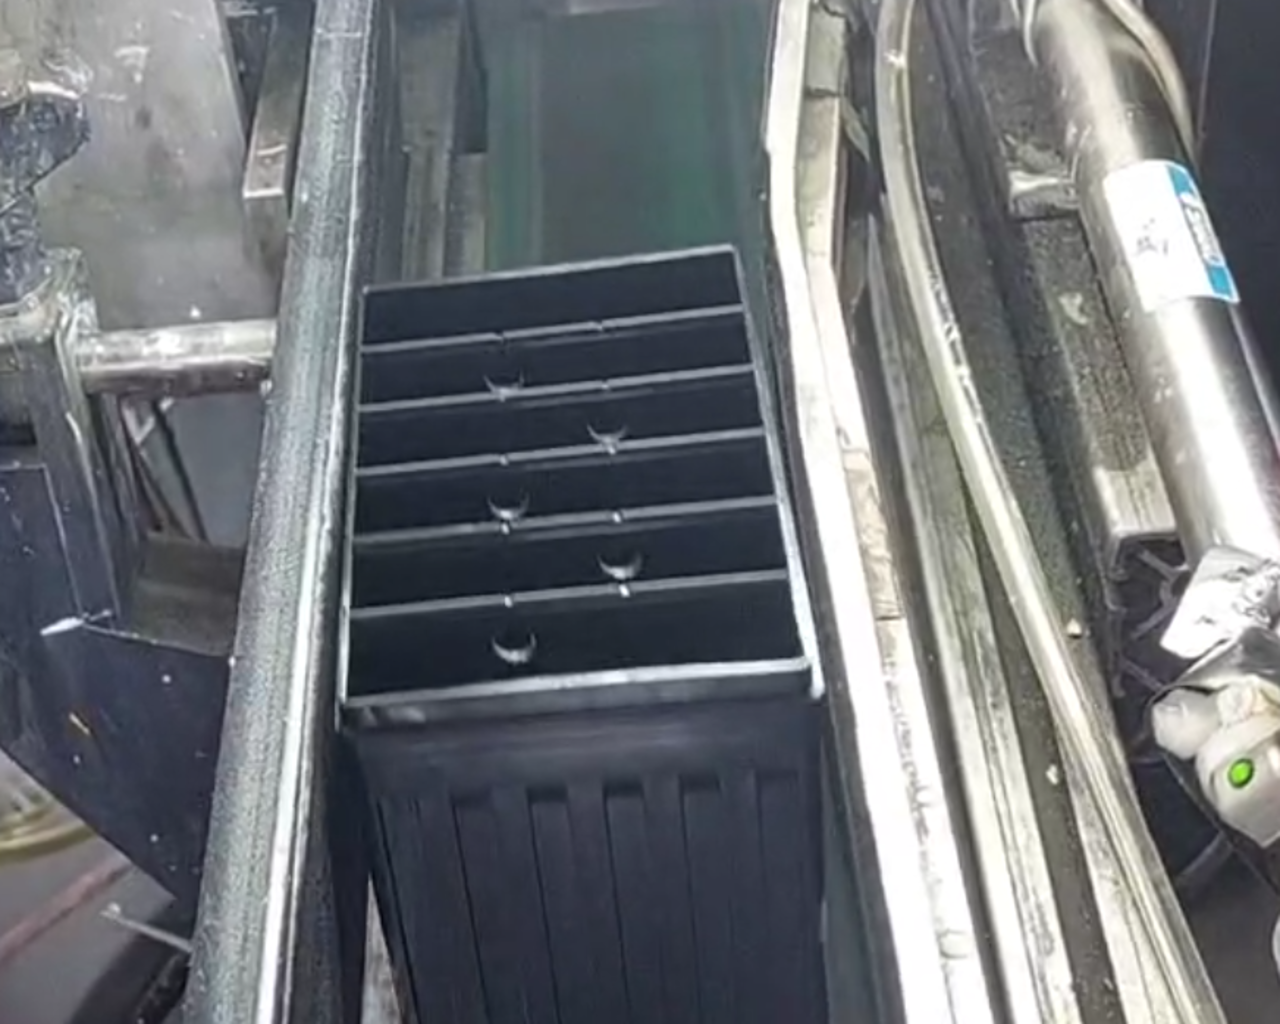box: (315, 223, 848, 756)
round: (572, 393, 641, 458), (583, 528, 656, 589), (480, 609, 548, 672), (468, 346, 541, 403), (479, 472, 546, 526)
